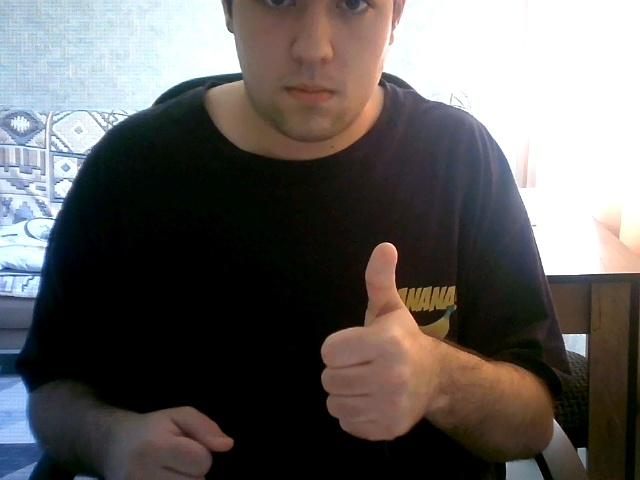good: (303, 245, 439, 445)
